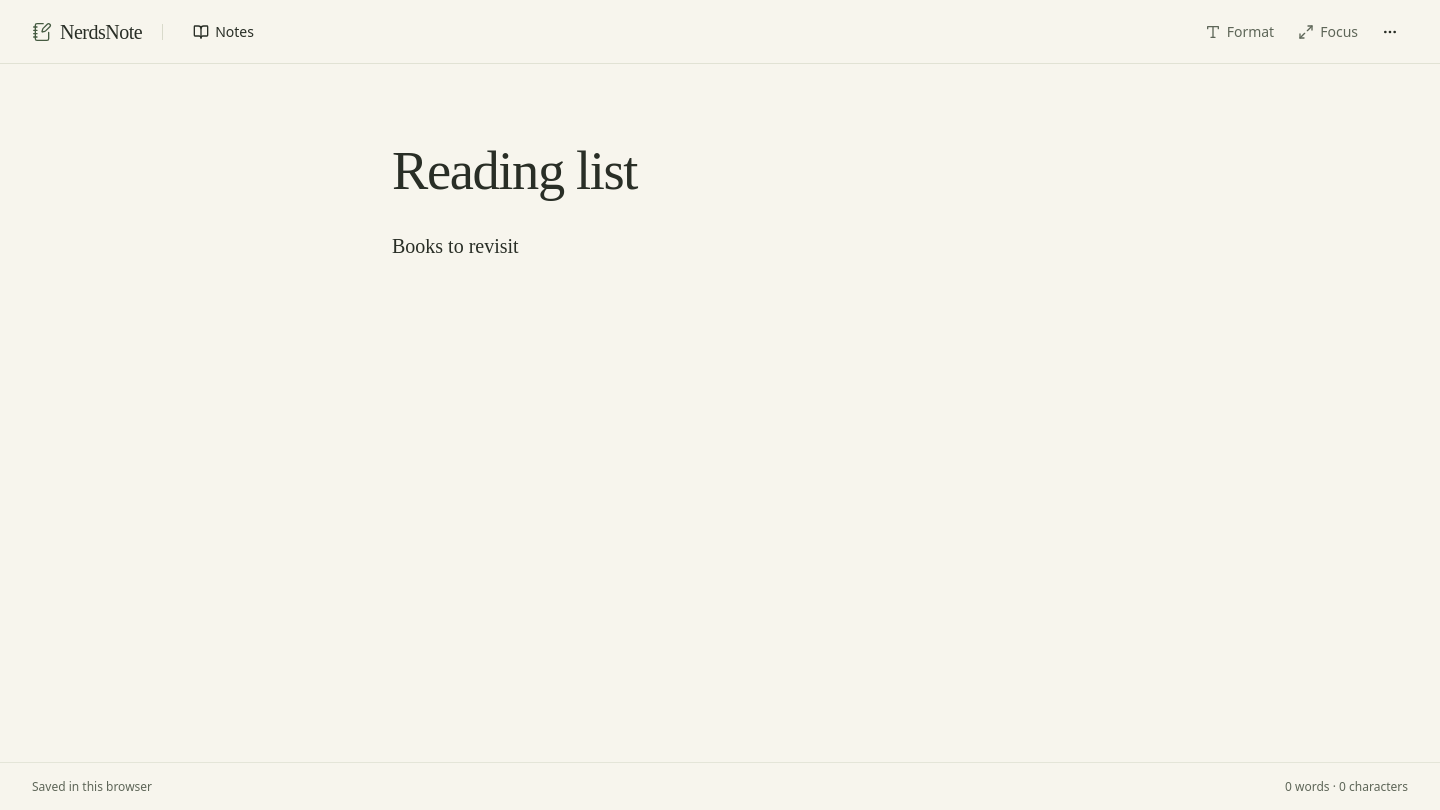
Test: notebook persistence › keeps changes saved by another tab when the current tab has stale notes
Replace the text in the field showing "Reading list" with "This tab's edit" at [720, 171], box [392, 137, 1048, 205]
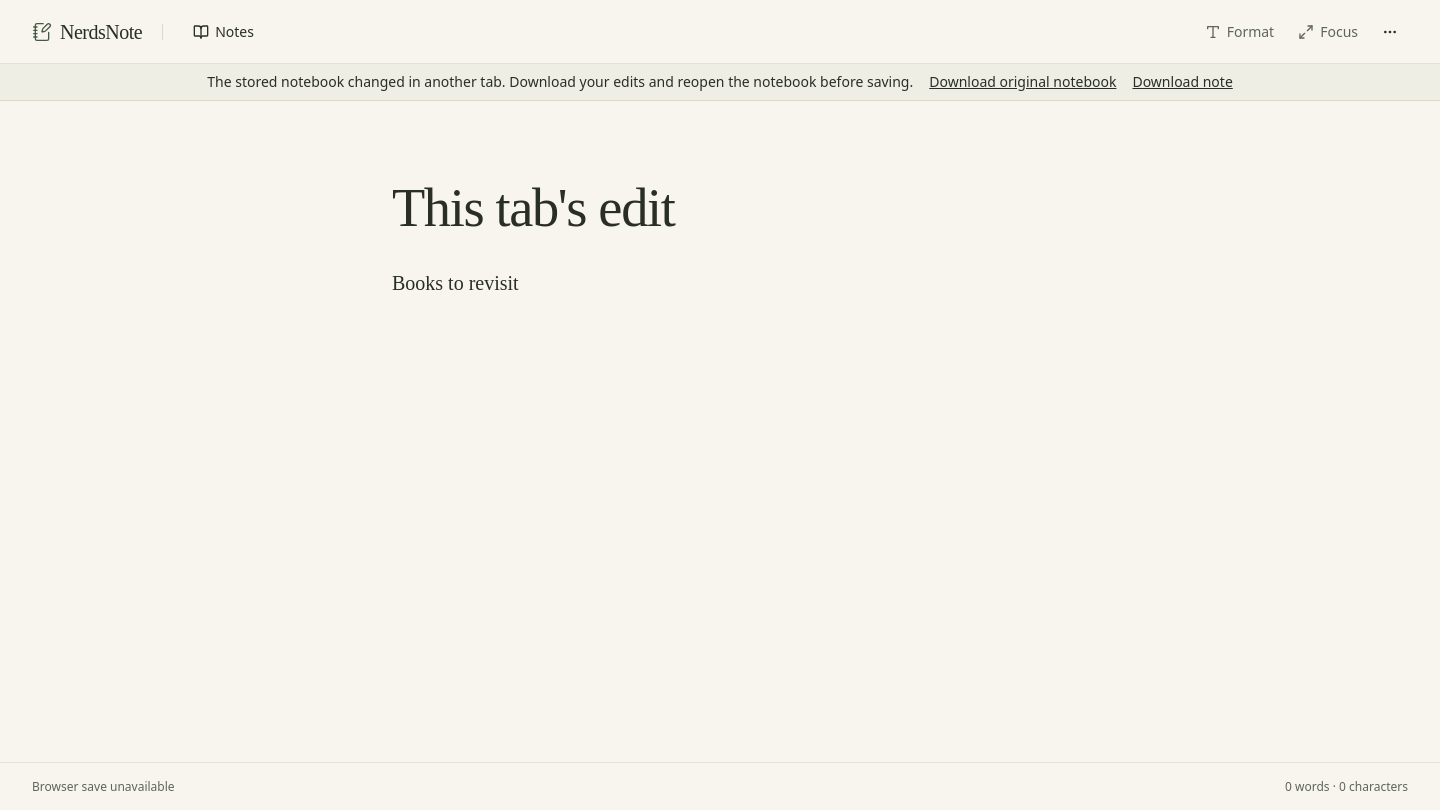
Now the message is shown, box [0, 64, 1439, 101]
